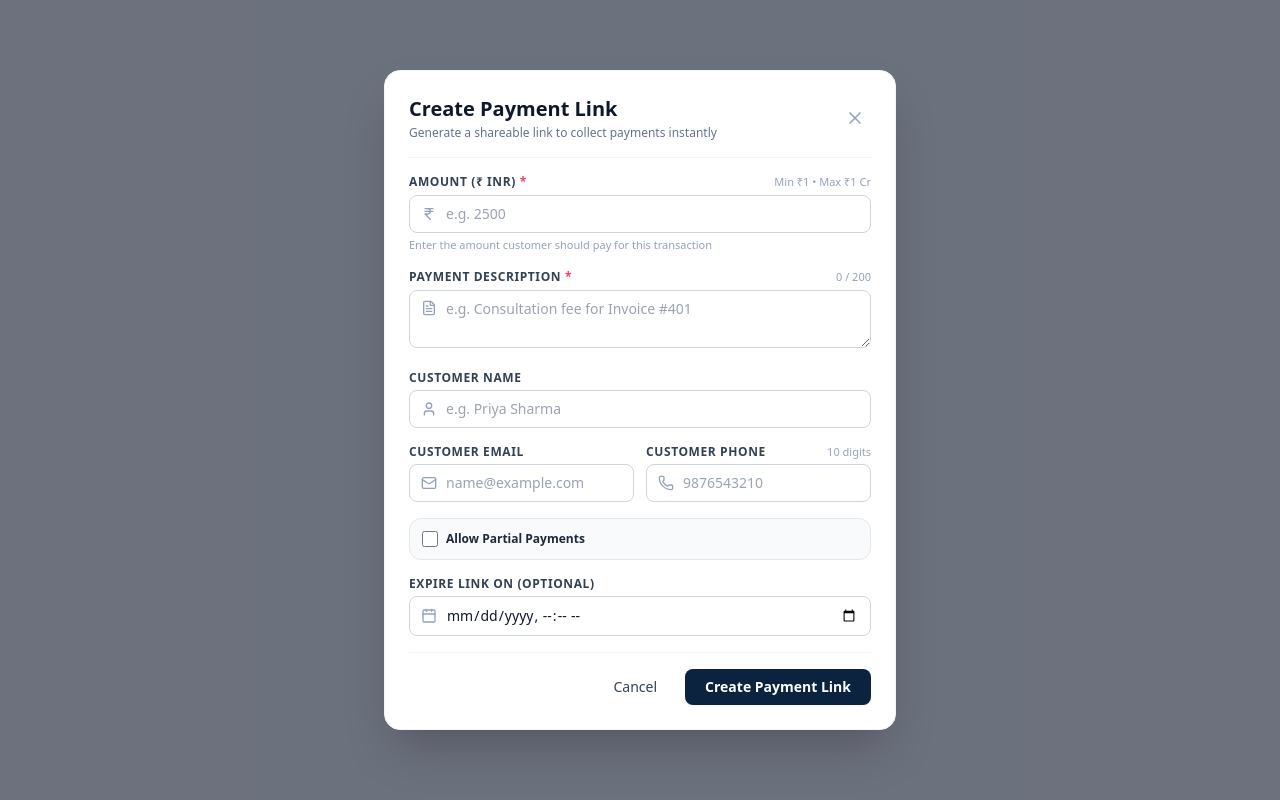
Test: CreateLinkModal Component - Intensive Form UX & Restrictions Testing › should dynamically display minimum partial amount input when partial payment toggle is checked
This screenshot has width=1280, height=800.
Expected: the field labelled "Minimum Partial Amount" is not shown
Click the checkbox labelled "Allow Partial Payments" at (430, 539), box x1=422 y1=531 x2=438 y2=547
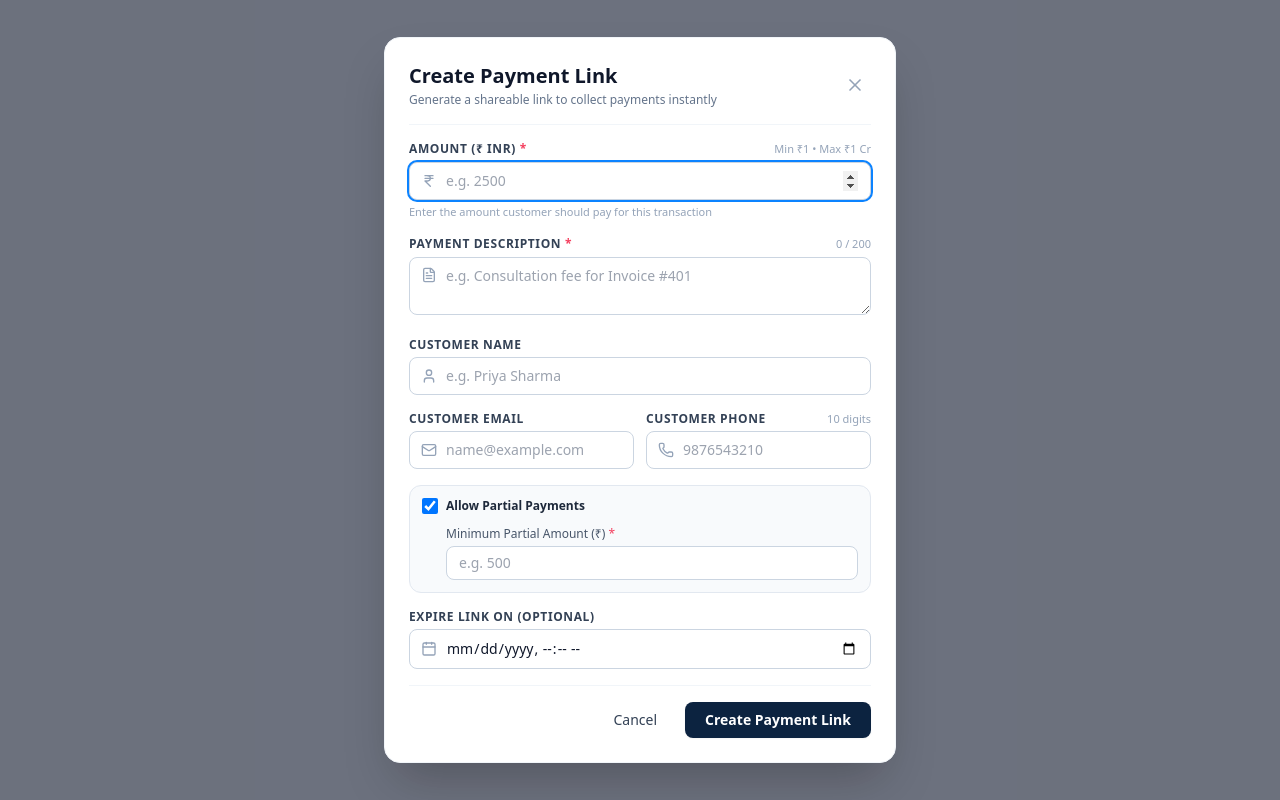
Expected: the number field labelled "Minimum Partial Amount (₹) *" is shown, x1=446 y1=546 x2=858 y2=580
